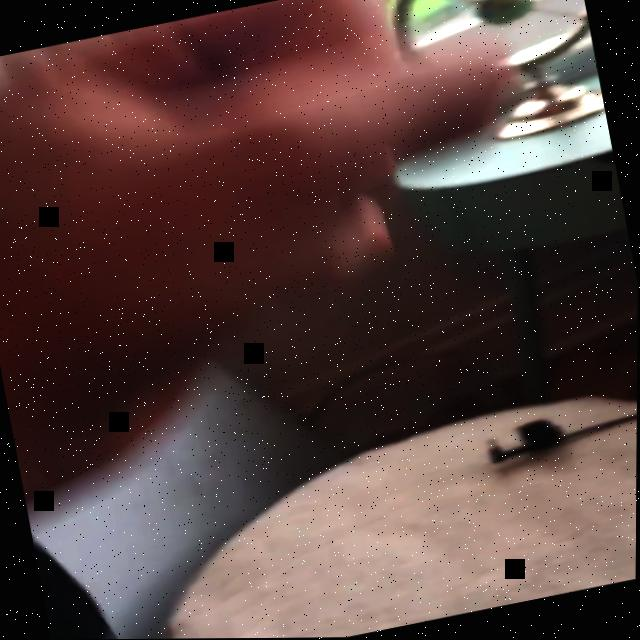Rock: (0, 0, 587, 513)
